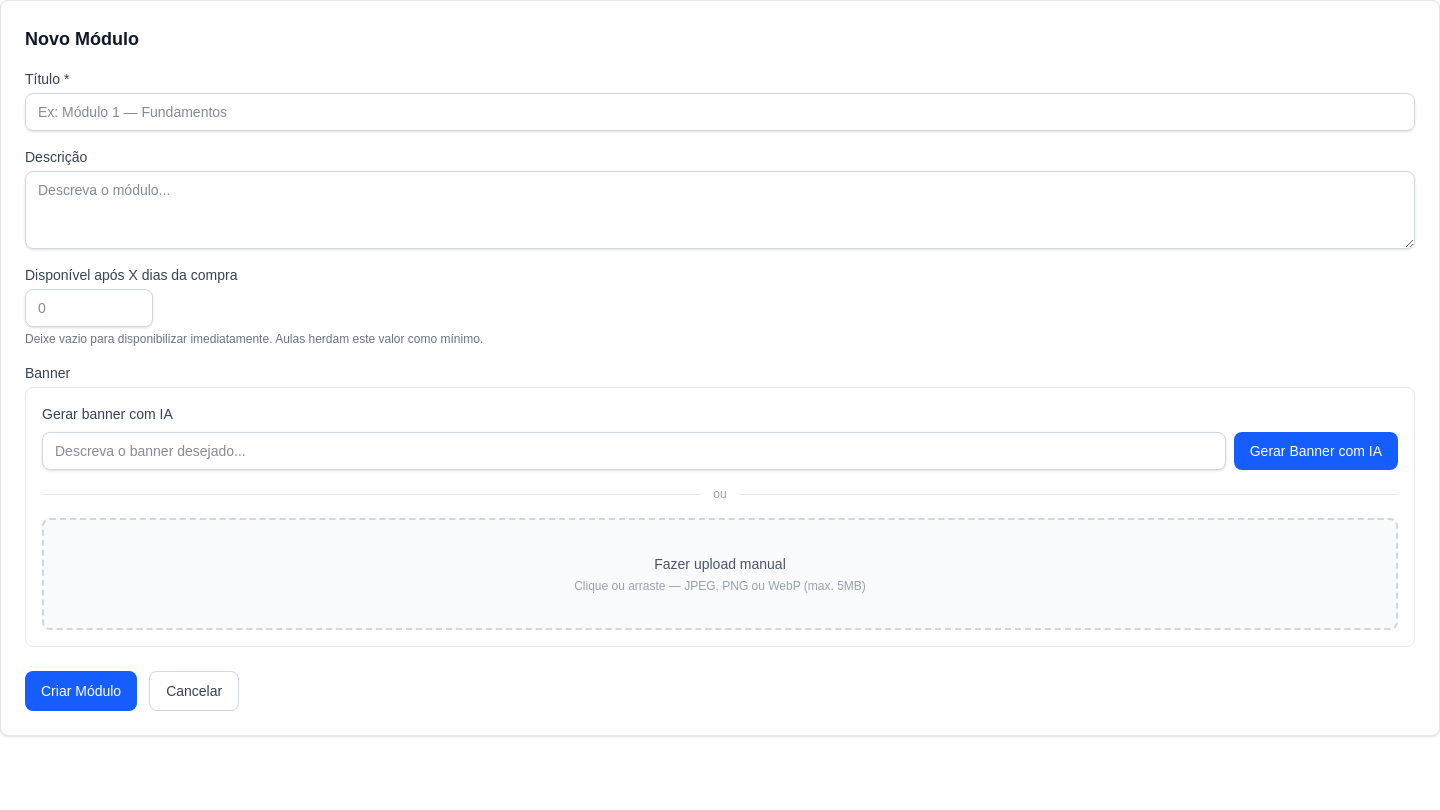
Test: ModuleForm › shows validation error when title is empty
The image size is (1440, 810).
Click the button "Criar Módulo". click: (81, 691)
box: 25,671 -> 137,711
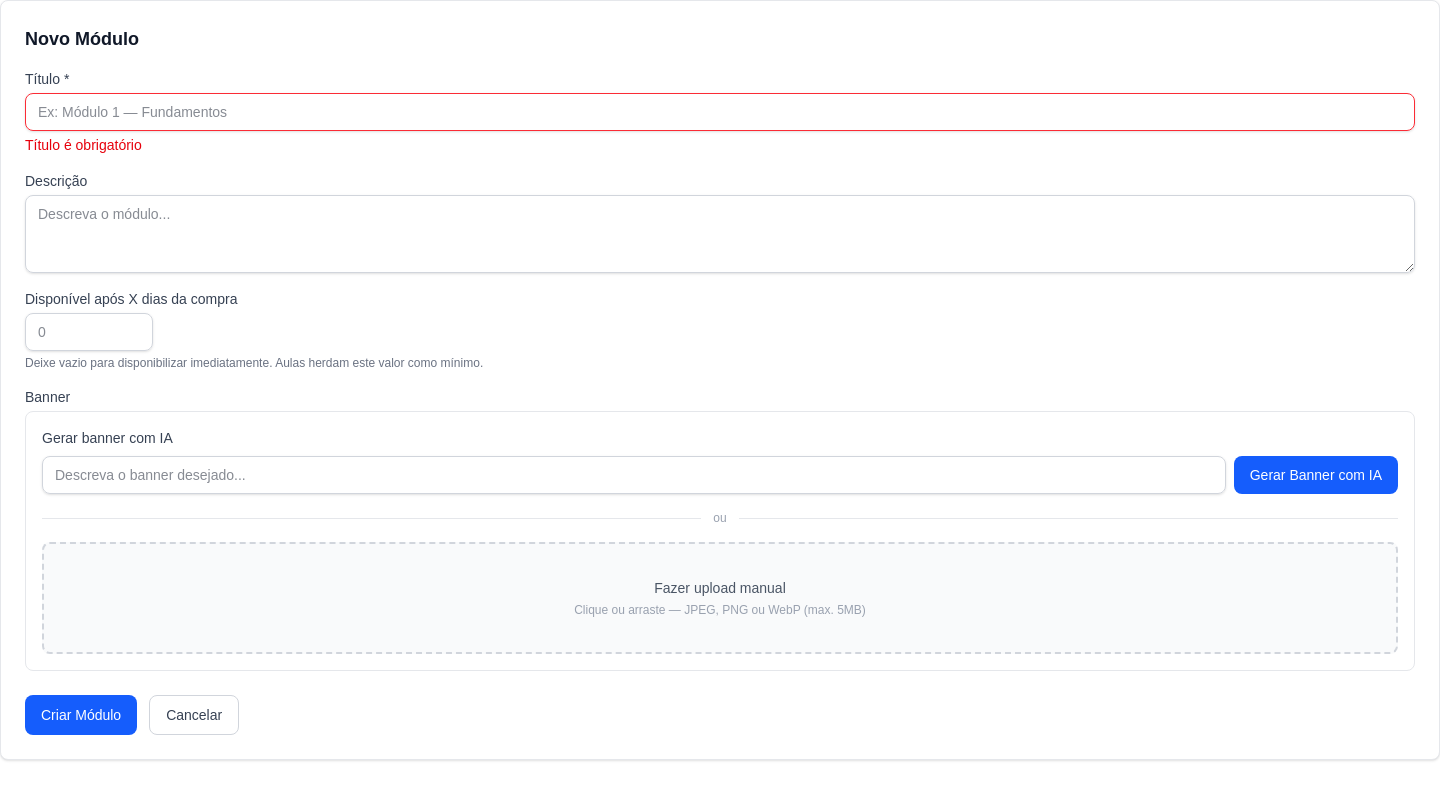
Expected: the text "Título é obrigatório" is shown, 25,137 -> 142,153
